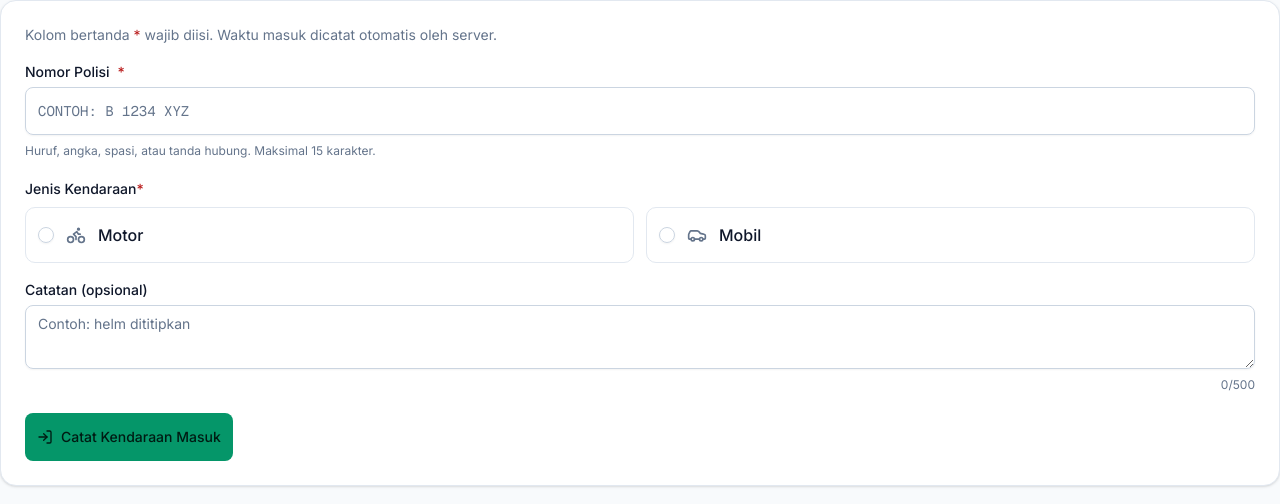
Test case: inline validation (no request) › marks mandatory fields and previews the normalized plate
The width and height of the screenshot is (1280, 504).
expect the label "Nomor Polisi *" is shown: met, box [25,63,125,80]
expect the text "Jenis Kendaraan*" is shown: met, box [25,179,144,199]
In the field labelled "Nomor Polisi *": (640,111) [25,87,1255,135], type "  b   1234 xyz "
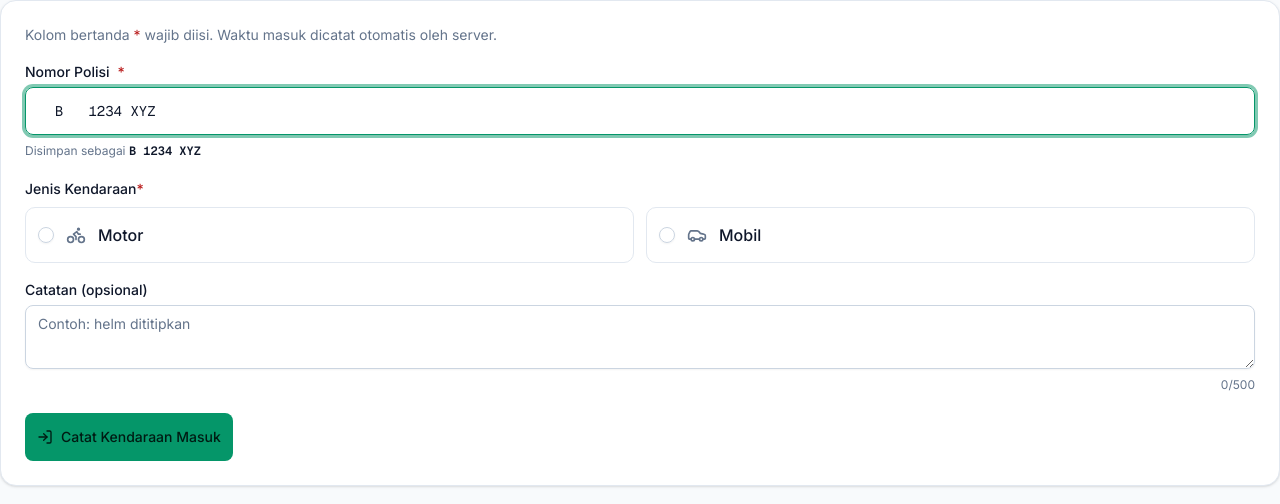
expect the element showing "Disimpan sebagai B 1234 XYZ" is shown: met, box [25,143,201,159]
